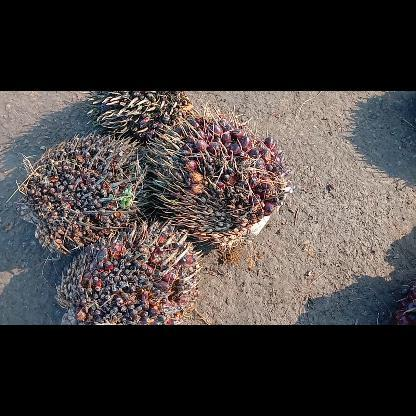TBS abnormal: (16, 132, 160, 258), (54, 218, 206, 324), (78, 90, 194, 146)
TBS masak: (141, 103, 291, 250)
